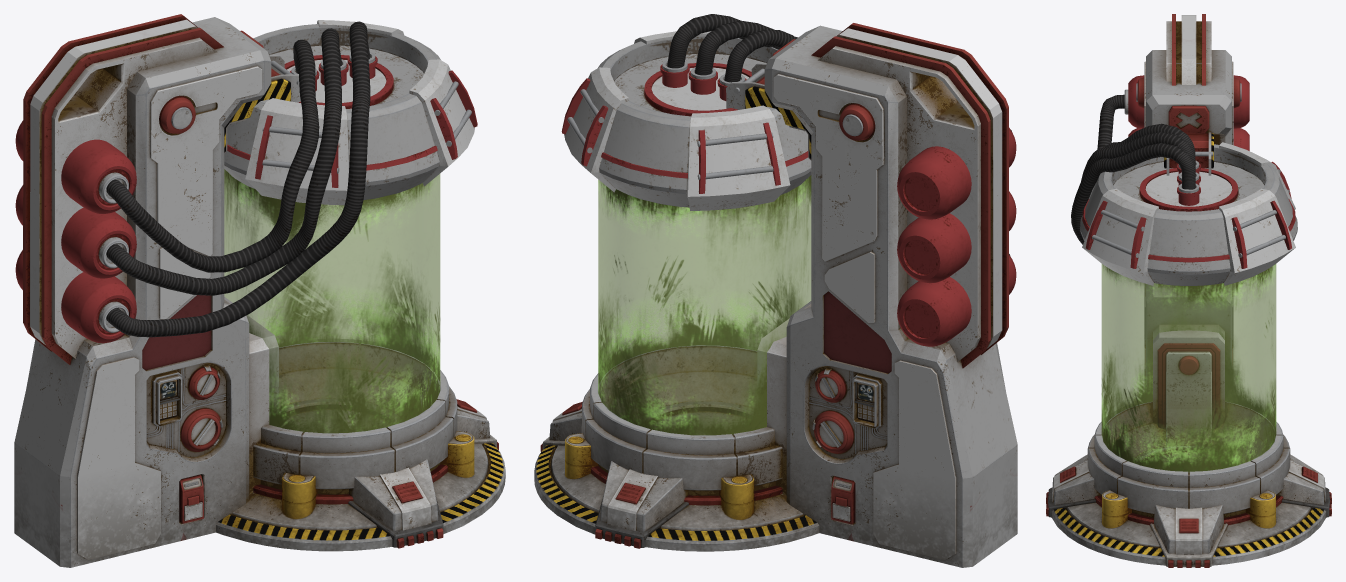
Rendered from sci-fi_lab_cell.glb.
3 views of the same model, side by side, from view 1: azimuth 30°, elevation 25°; view 2: azimuth 150°, elevation 25°; view 3: azimuth 270°, elevation 25° (orthographic). The views are drawn at different scales.
Parts seen in each view (by area): view 1: Cellbase.LOW, Cell.LOW, Pipe.LOW, CellUp.LOW, Palka.LOW.001; view 2: Cellbase.LOW, Cell.LOW, CellUp.LOW, Pipe.LOW, Palka.LOW.001; view 3: Cellbase.LOW, Cell.LOW, CellUp.LOW, Pipe.LOW, Palka.LOW.001.
Part boxes in pixels (x1,y1,x2,y2): Cellbase.LOW: [14, 14, 505, 567]; Cell.LOW: [224, 169, 440, 433]; Pipe.LOW: [15, 21, 377, 343]; CellUp.LOW: [224, 20, 477, 205]; Palka.LOW.001: [256, 81, 471, 173]; Cellbase.LOW: [534, 23, 1017, 567]; Cell.LOW: [598, 175, 811, 435]; CellUp.LOW: [561, 31, 811, 210]; Pipe.LOW: [660, 14, 1016, 346]; Palka.LOW.001: [567, 89, 779, 179]; Cellbase.LOW: [1046, 14, 1331, 567]; Cell.LOW: [1101, 264, 1276, 472]; CellUp.LOW: [1080, 142, 1297, 285]; Pipe.LOW: [1071, 75, 1249, 244]; Palka.LOW.001: [1092, 169, 1289, 257].
Size of the model in its own units: 4.18 by 4.33 by 2.84.
Materials: 2 (2 with a texture image).
